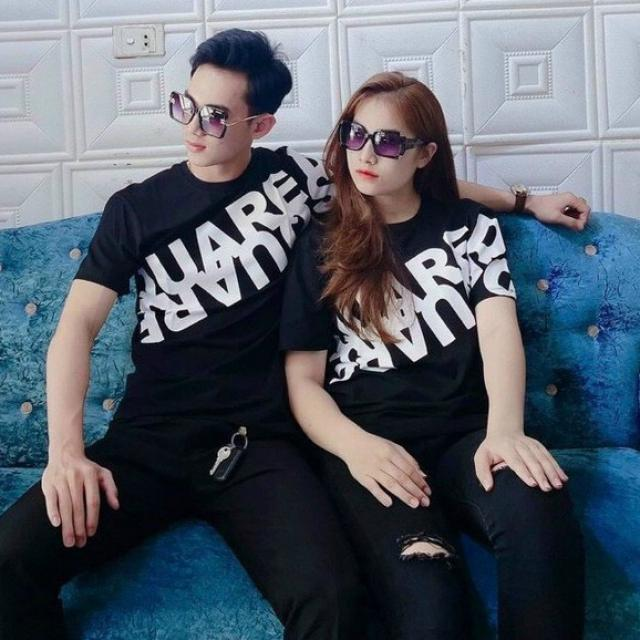Shirt: (76, 144, 361, 458), (282, 195, 524, 463)
